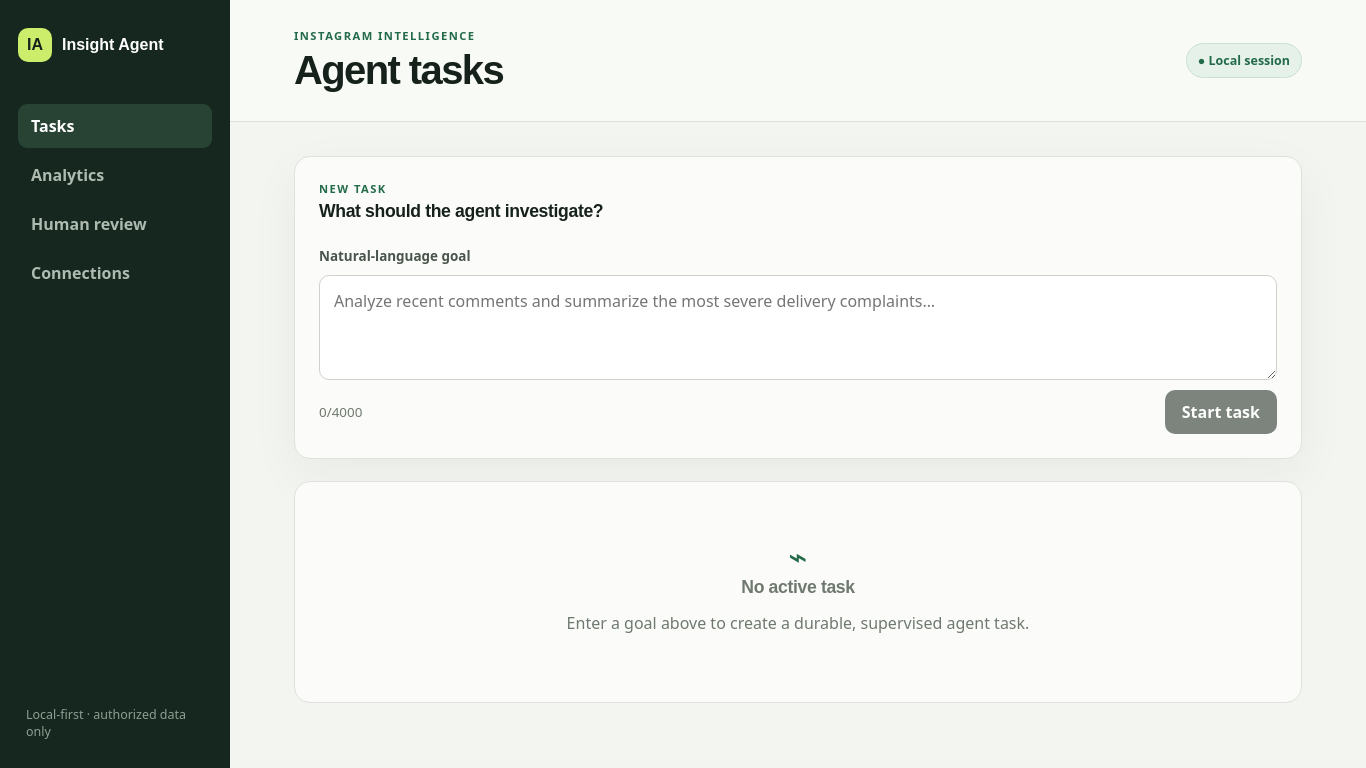
Test: dashboard › renders approval_required task state
The image size is (1366, 768).
Type "Analyze comments" into the text box labelled "Natural-language goal".
click(798, 327); type("Analyze comments")  # box [319, 275, 1277, 380]
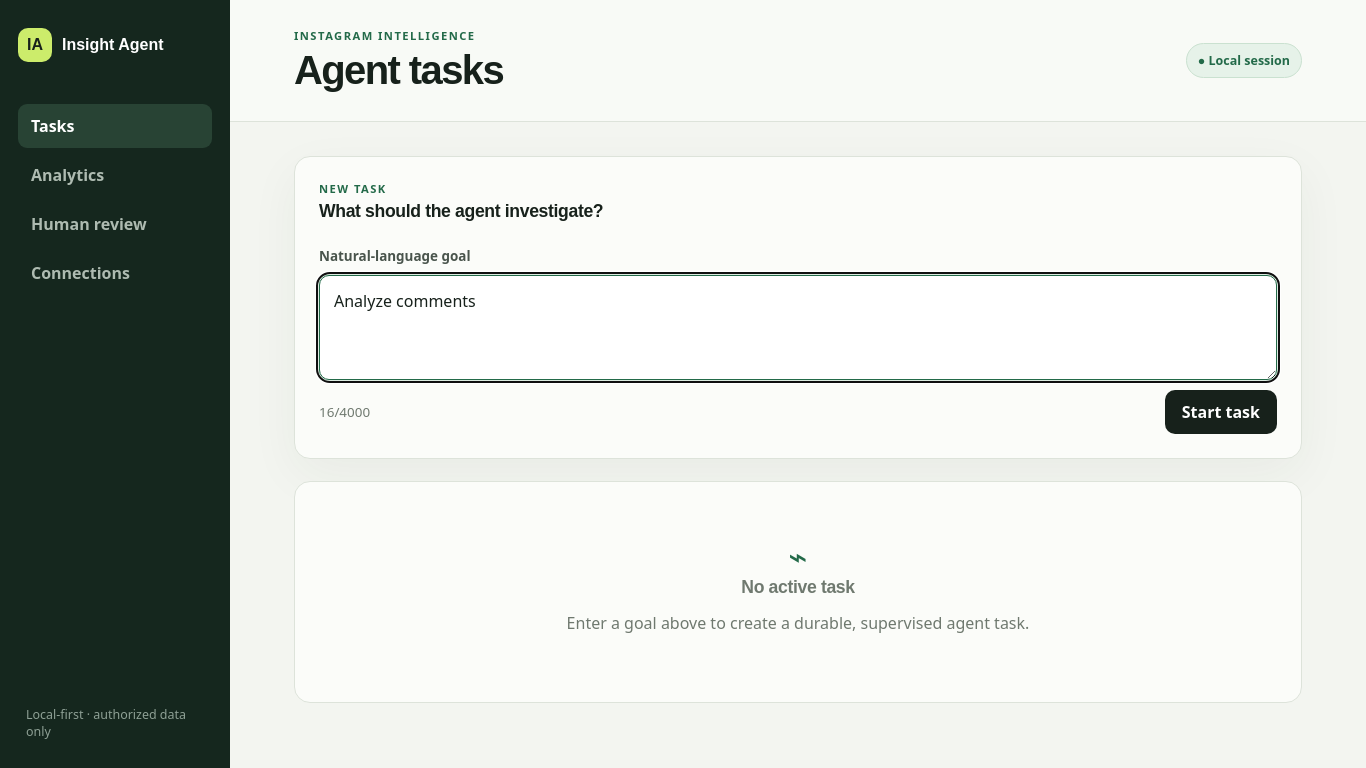
Click the button "Start task".
click(1221, 412)  # box [1165, 390, 1277, 434]
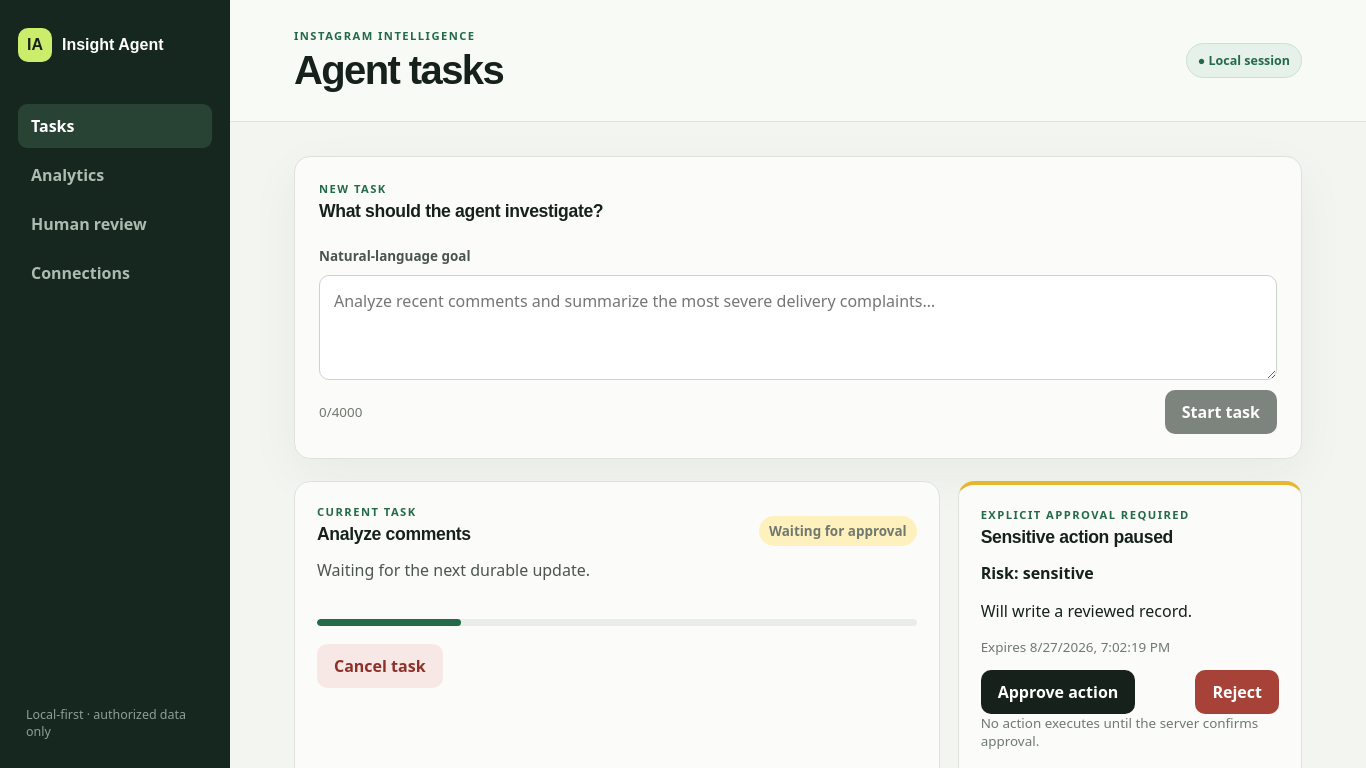
expect the text "Waiting for approval" is shown: met, box [759, 516, 917, 546]
expect the text "No action executes until the server confirms approval." is shown: met, box [981, 714, 1279, 750]
